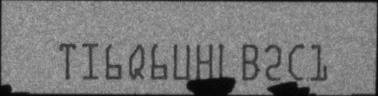1: (310, 42, 328, 81)
2: (264, 42, 283, 81)
6: (104, 41, 123, 80), (150, 42, 168, 80)
B: (241, 40, 260, 80)
C: (287, 42, 305, 83)
H: (194, 42, 215, 79)
I: (81, 41, 101, 81)
L: (218, 42, 235, 81)
Q: (129, 44, 146, 82)
T: (59, 41, 77, 81)
U: (173, 41, 191, 80)
